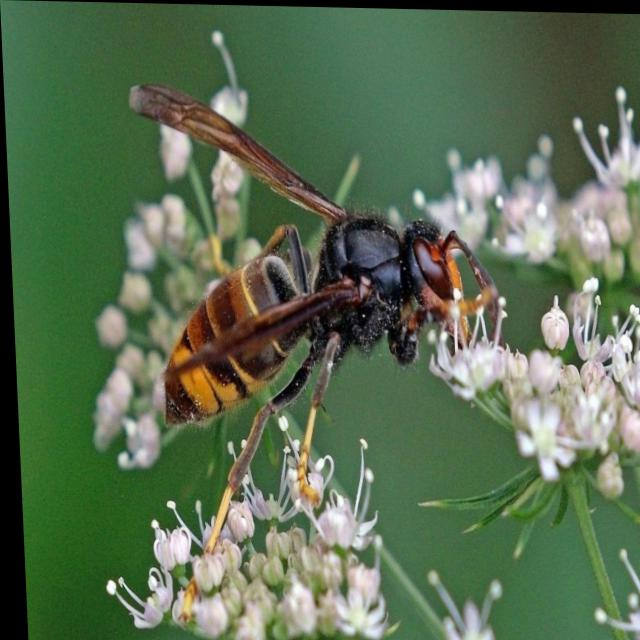Vespa Velutina: (114, 63, 515, 638)
